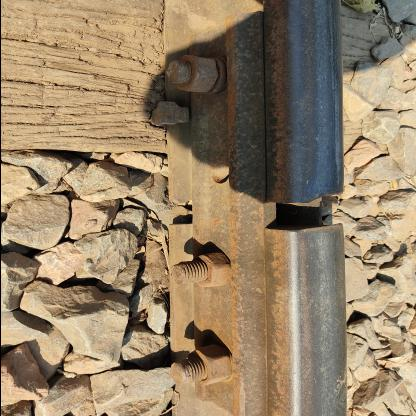Defective 2: (170, 160, 372, 258)
Defective 3: (146, 0, 267, 415)
